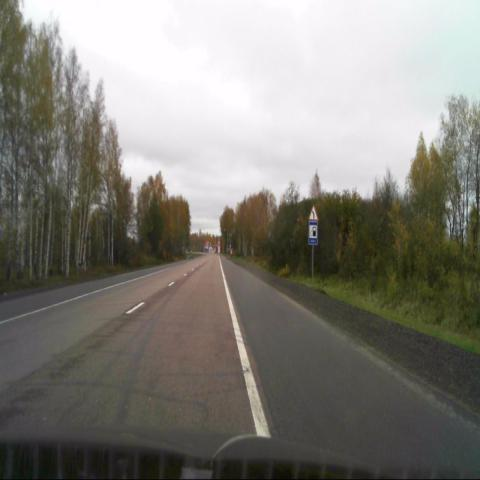7_3: (308, 220, 318, 244)
